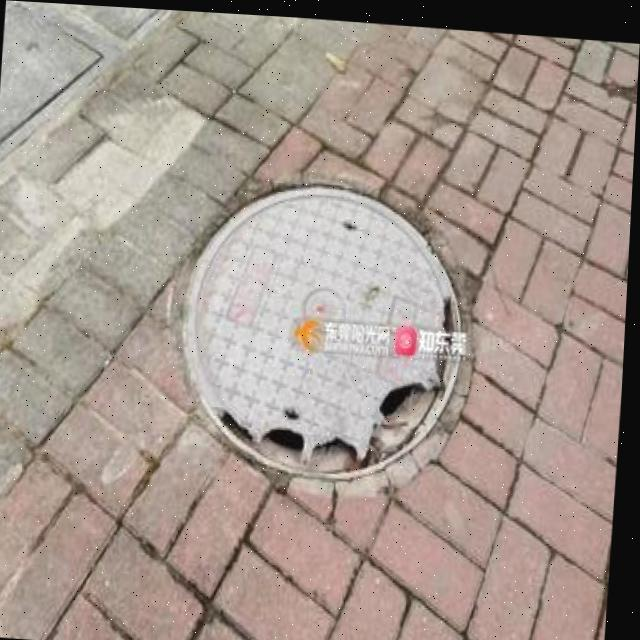manhole: (170, 161, 478, 495)
